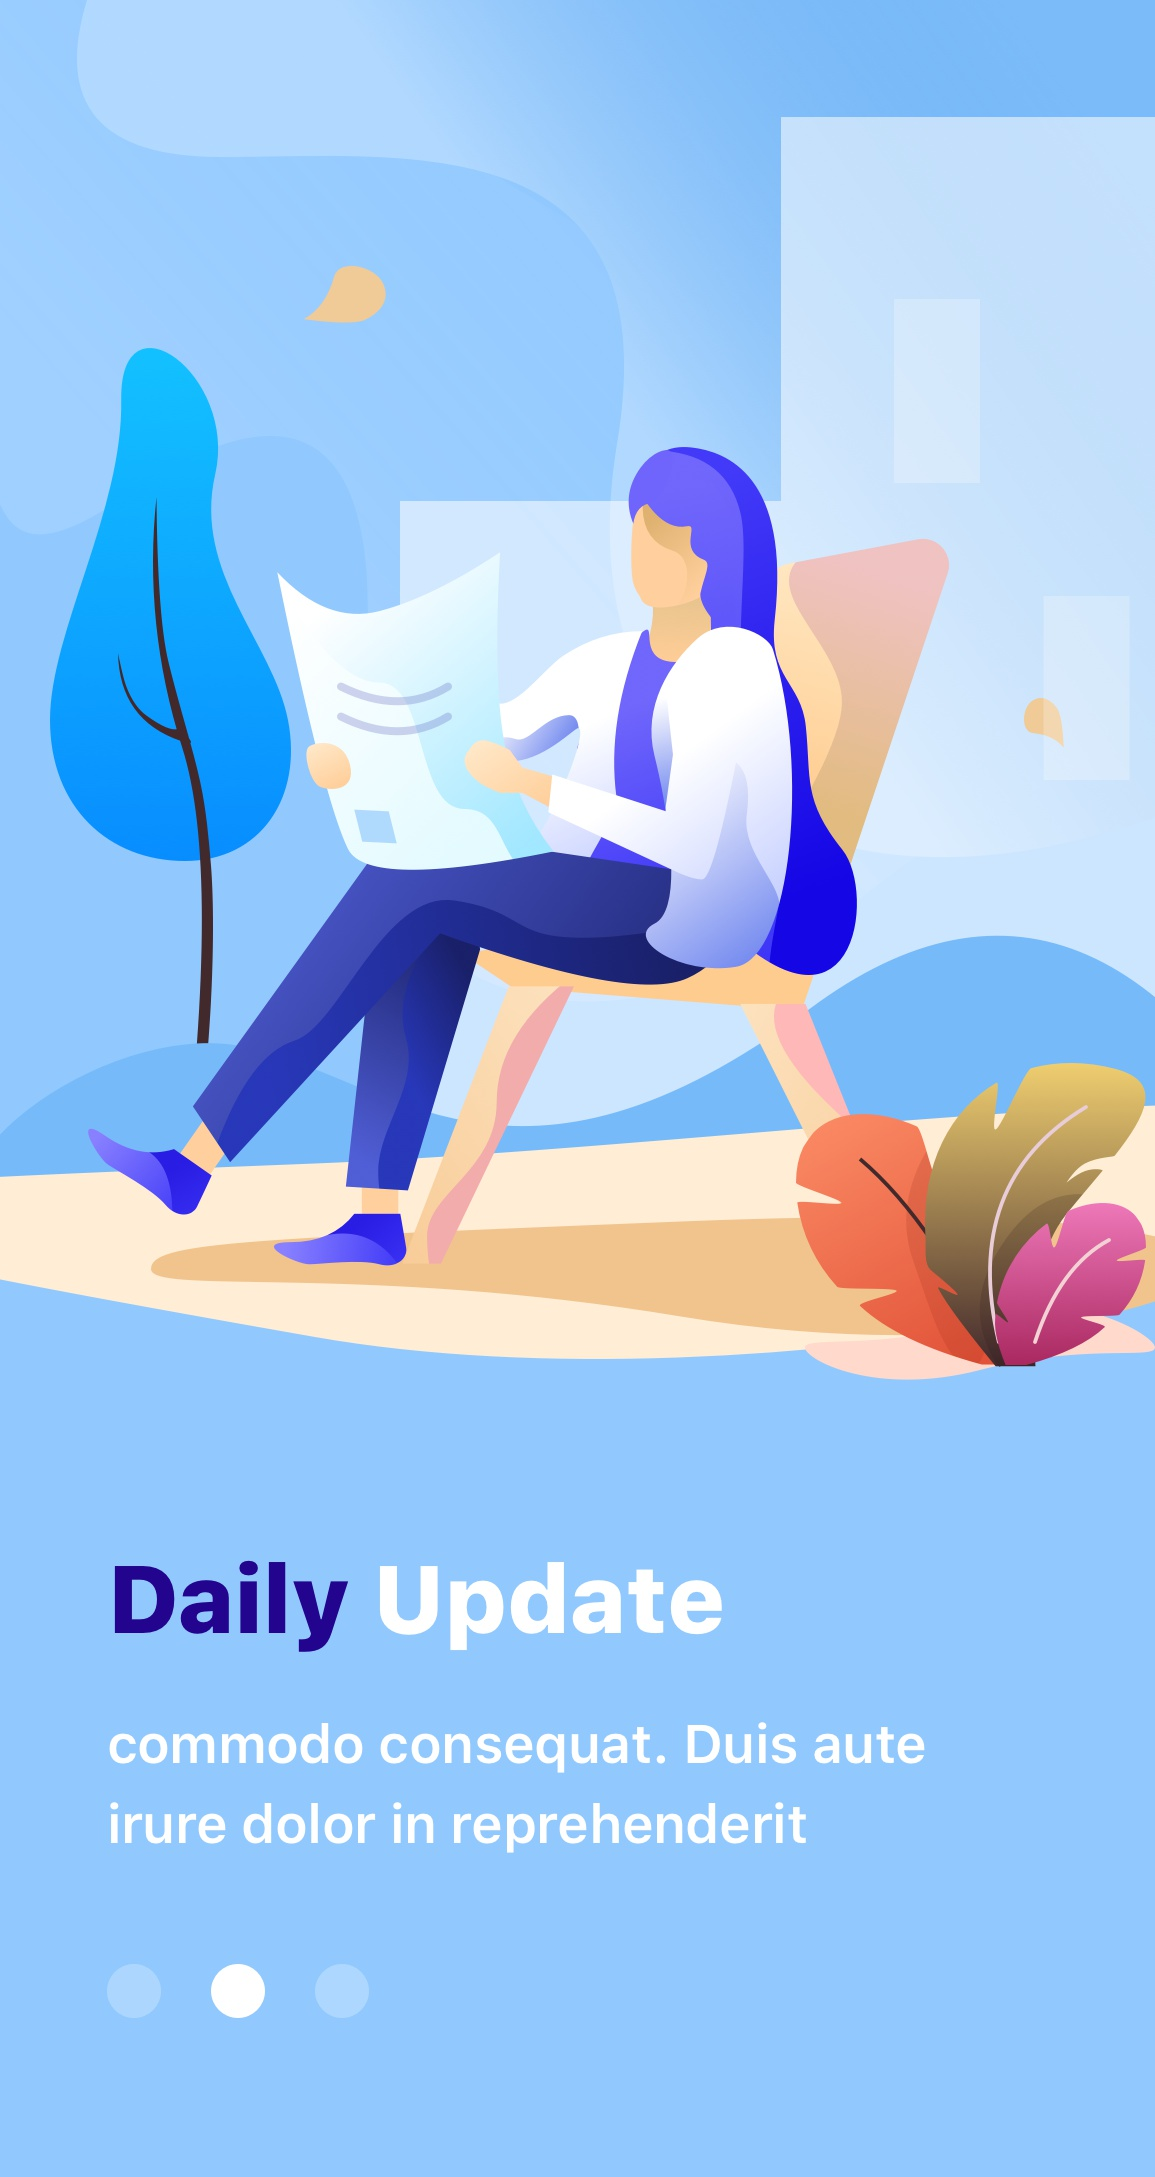Image: (4, 6, 1155, 1387)
PageIndicator: (105, 1960, 373, 2021)
Text: (107, 1721, 926, 1856), (114, 1559, 724, 1654)
